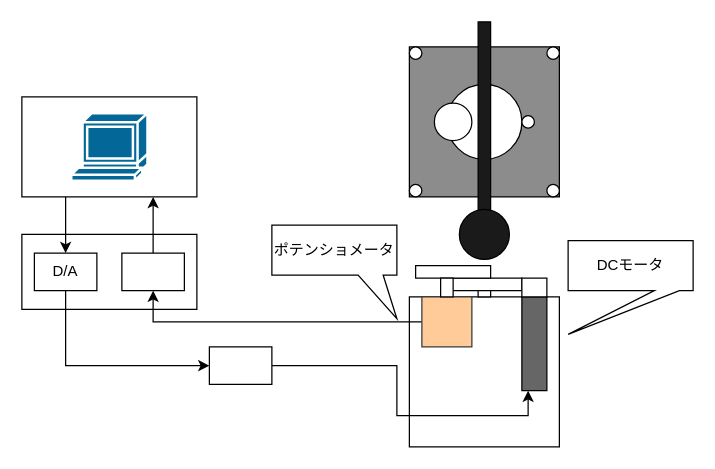
Image size: 715x469. Some labels were removed from this diagram. Each missing label, with the centre of its shape:
"A/D" goes at [152,271].
"アンプ" goes at [240,365].
